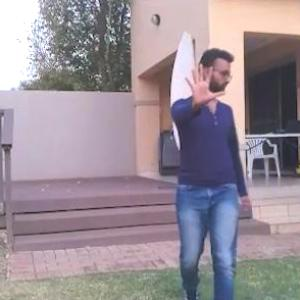follow_hand: (180, 59, 226, 113)
